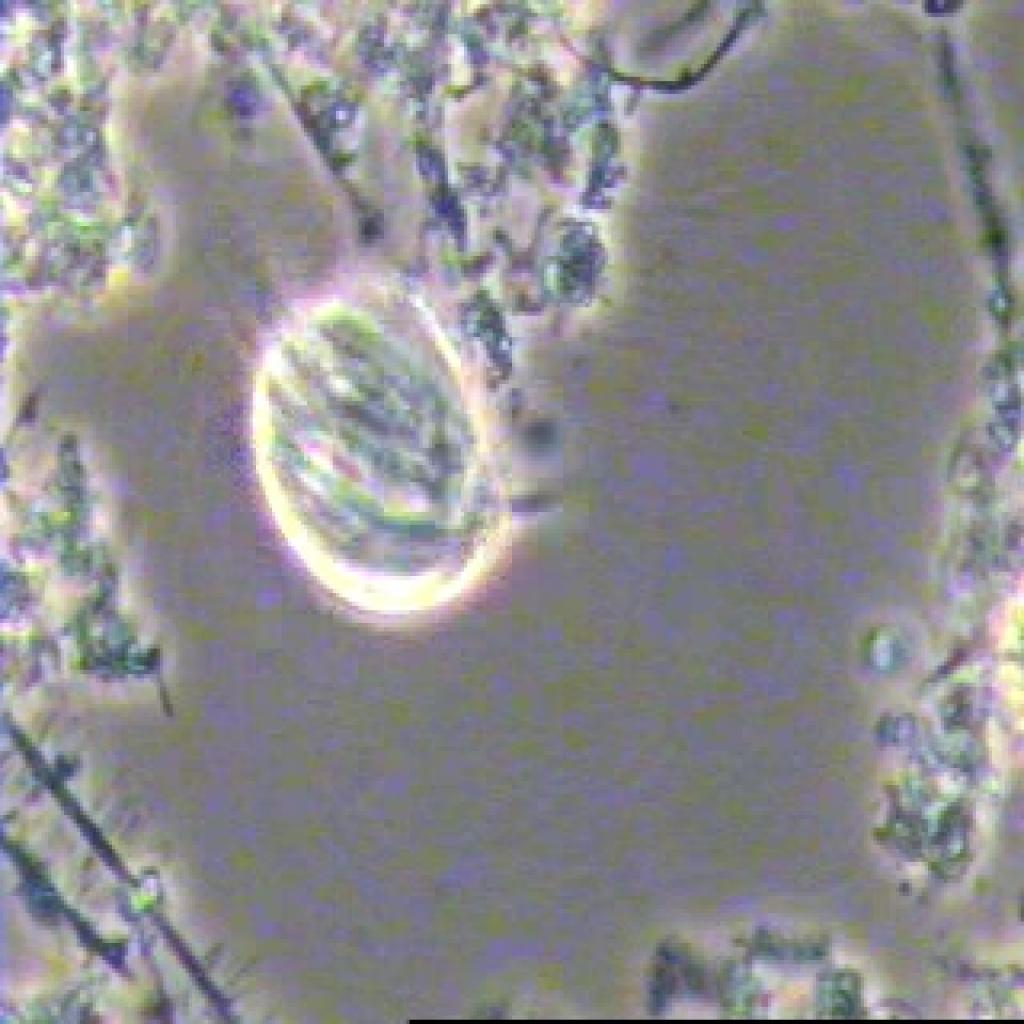Aspidisca: (196, 248, 578, 662)
